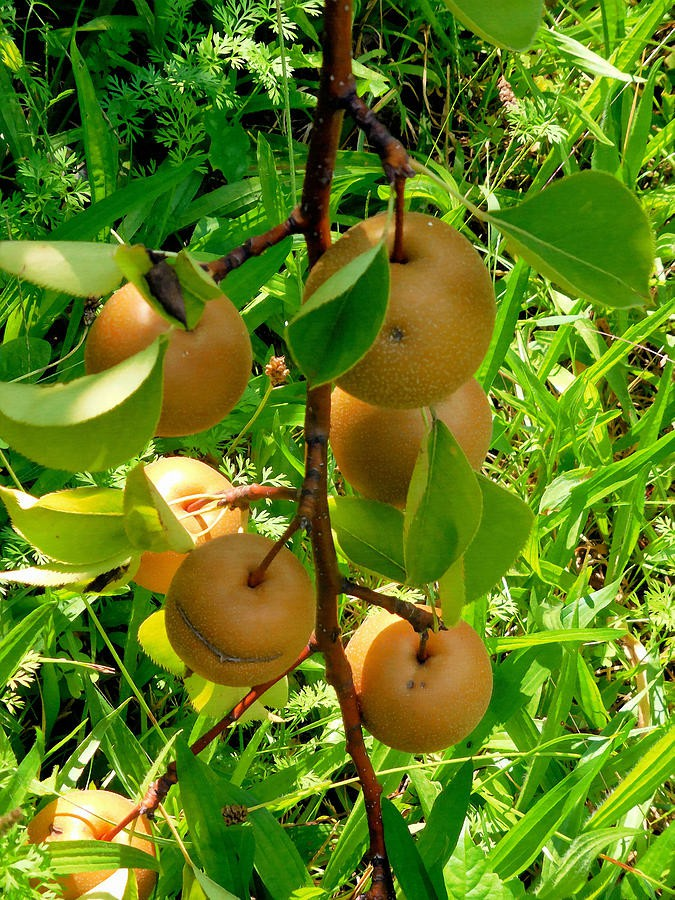pear: (300, 208, 494, 410), (89, 270, 249, 437), (324, 351, 494, 507), (161, 528, 315, 685), (343, 603, 492, 753), (118, 453, 250, 594), (8, 781, 159, 900)
